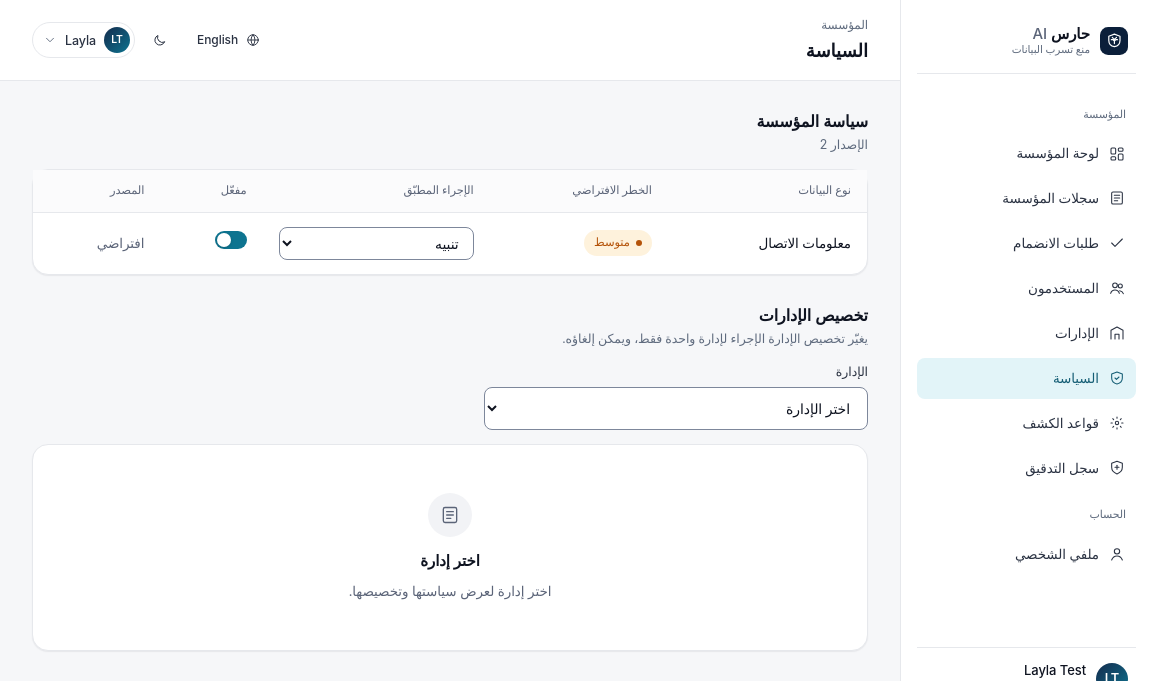
Test: policy › a failed save shows the error on that row and keeps the old value
The width and height of the screenshot is (1152, 681).
Step 1. Select "منع" in the dropdown named "الإجراء لنوع معلومات الاتصال" → (376, 243), box [279,227,474,260]
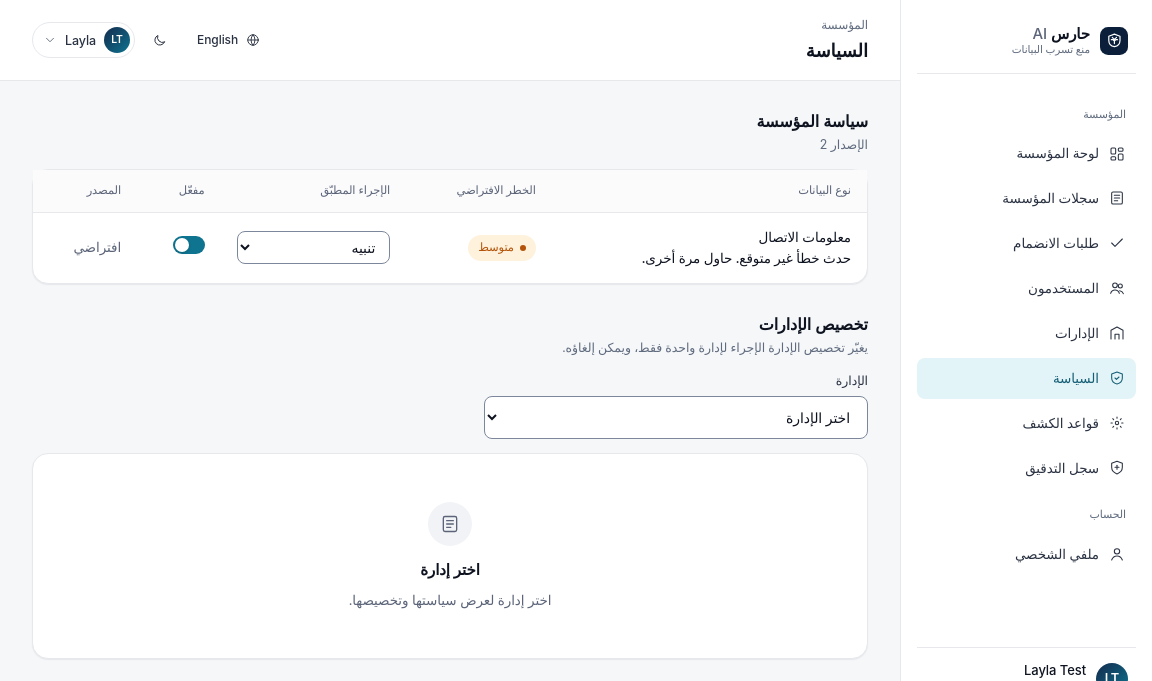
expect the message "حدث خطأ غير متوقع. حاول مرة أخرى." is shown: met, box [642,250,851,266]
